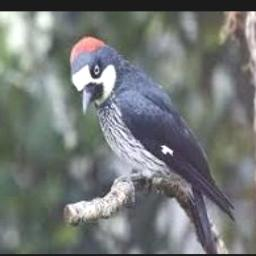Woodpecker: (71, 33, 236, 254)
